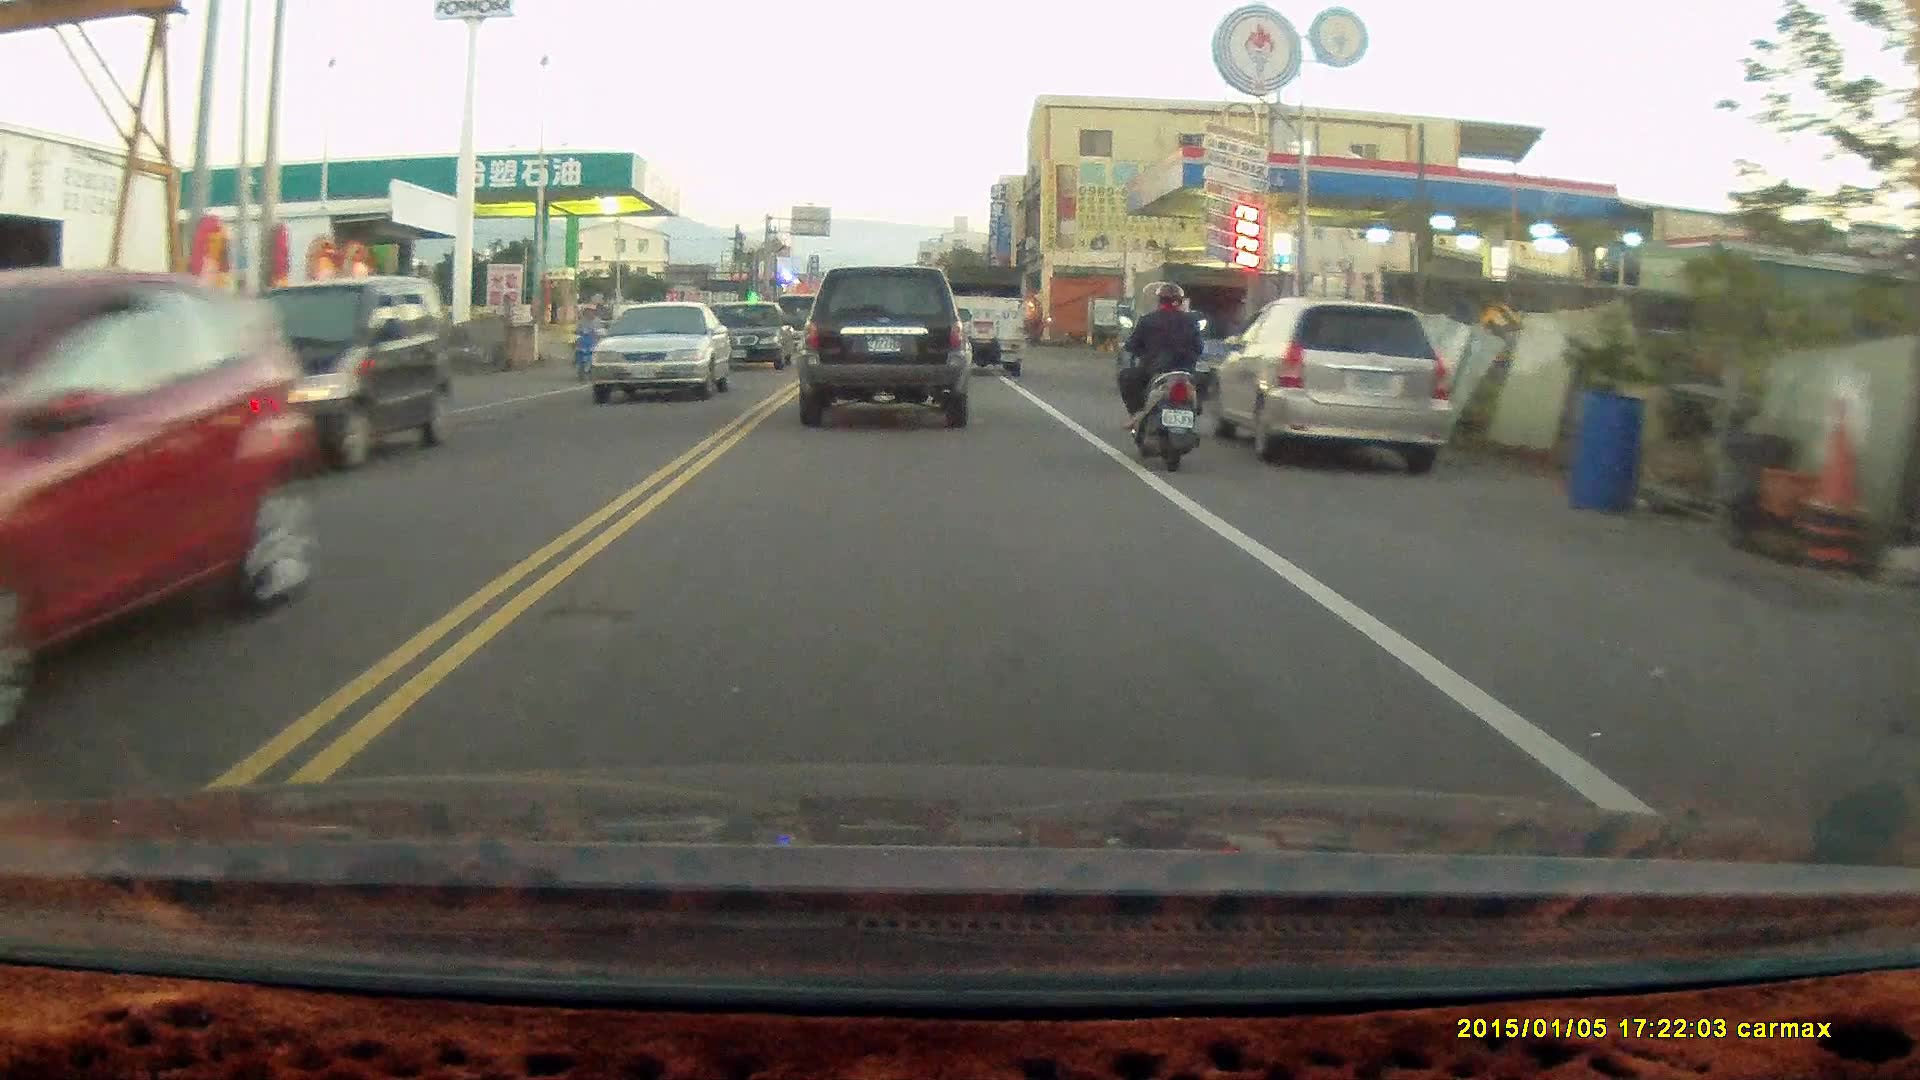rider: (1112, 277, 1209, 466), (566, 300, 614, 384)
vehicle: (1, 267, 325, 732), (163, 274, 460, 477), (1218, 295, 1457, 476), (794, 266, 972, 430), (1113, 258, 1254, 389), (587, 299, 735, 402), (938, 260, 1024, 376), (711, 298, 796, 369)
